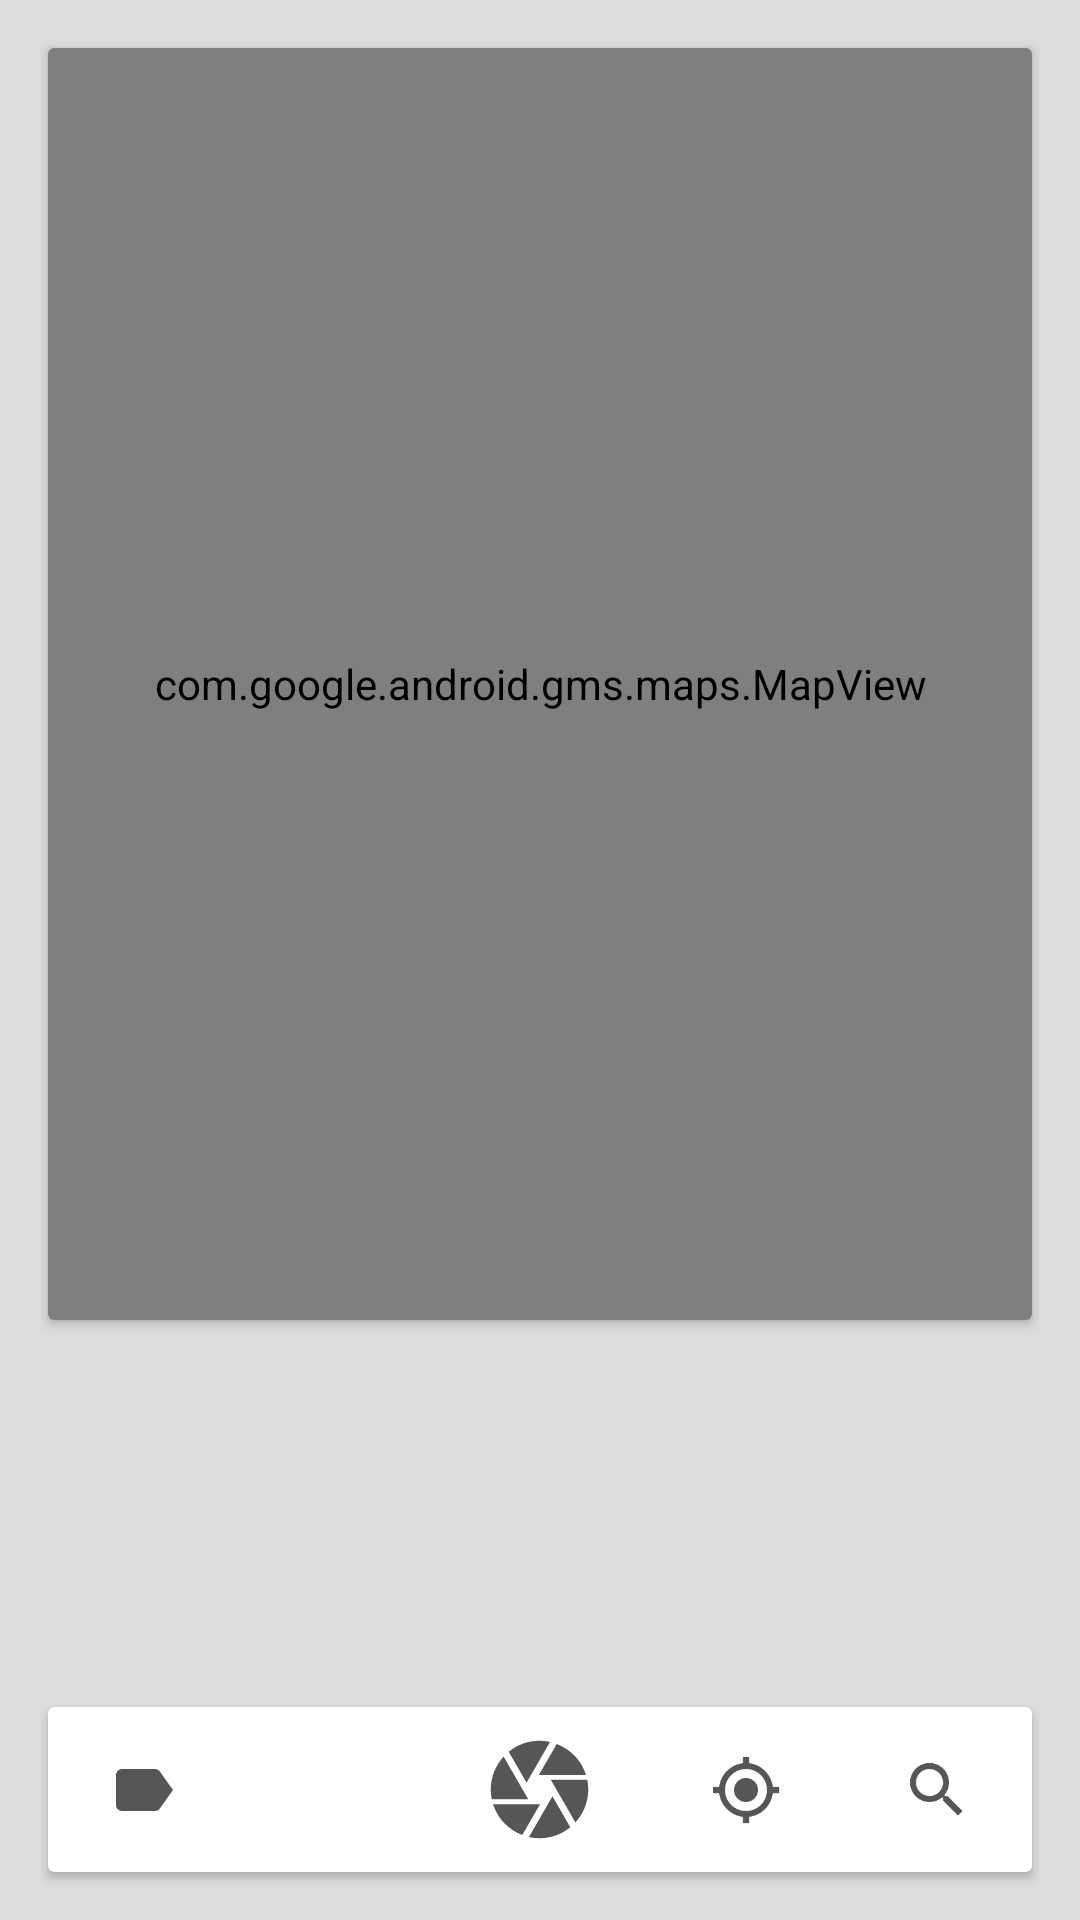

Icon bounding boxes for this 1080w x 1920h phone screenshot, format (x1, y1, x2, y2):
camera: (490, 1740, 589, 1839)
label: (116, 1769, 173, 1811)
location: (713, 1757, 779, 1823)
search: (910, 1763, 963, 1816)
